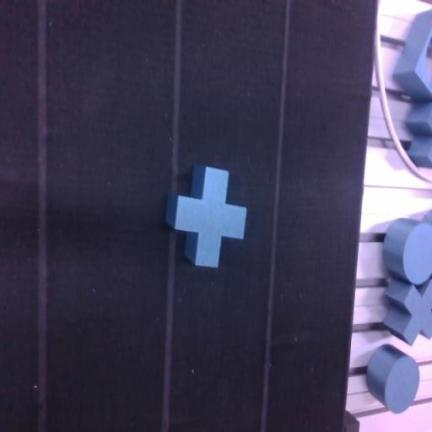cross: (166, 166, 246, 267), (384, 280, 431, 345)
